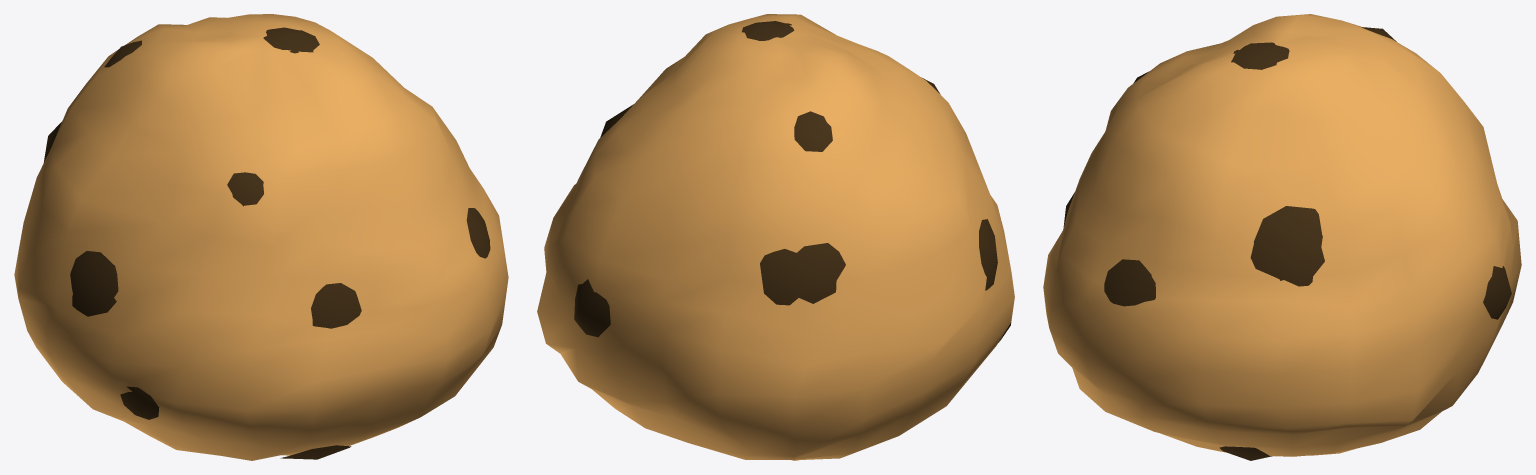
File: doughball.fbx
3 views of the same model, side by side, from view 1: azimuth 30°, elevation 25°; view 2: azimuth 150°, elevation 25°; view 3: azimuth 270°, elevation 25° (orthographic).
Visible parts, largest first — view 1: DoughBallFlatShape; view 2: DoughBallFlatShape; view 3: DoughBallFlatShape.
Part boxes in pixels (bbox=[...]): DoughBallFlatShape: bbox=[14, 14, 508, 460]; DoughBallFlatShape: bbox=[537, 14, 1014, 460]; DoughBallFlatShape: bbox=[1043, 14, 1521, 460].
Size of the model in its own units: 0.0208 by 0.0183 by 0.0208.
